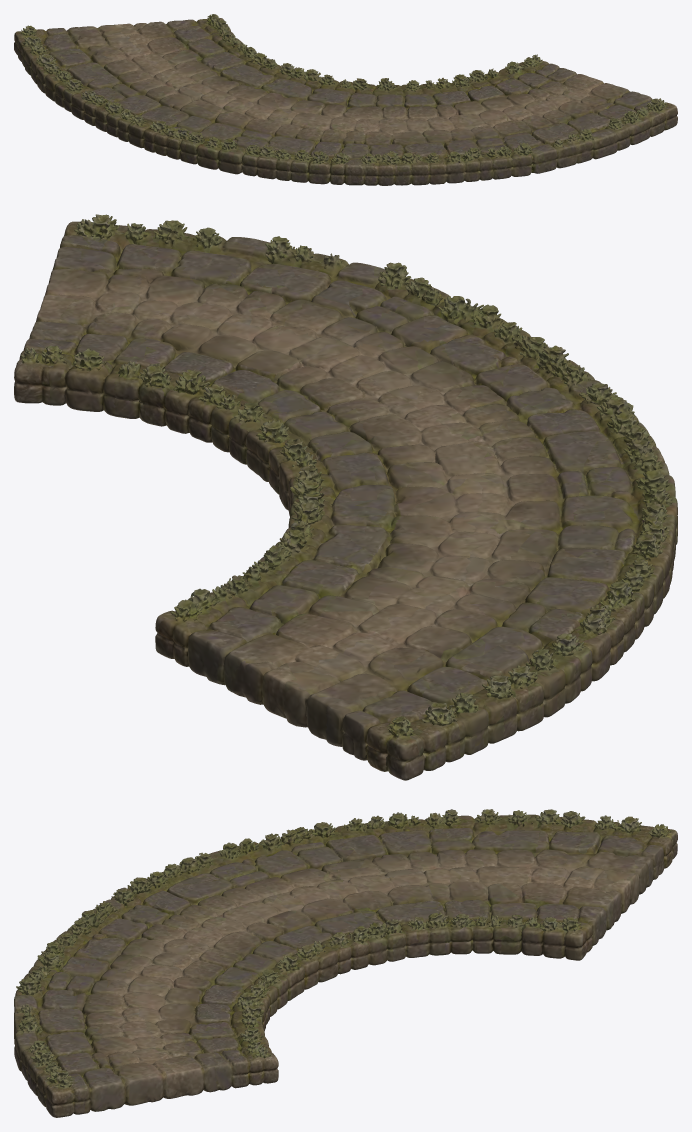
The model's file is Meshy_AI_road_curve_left_stron_0823032013_image-to-3d-texture.glb.
3 views of the same model, one above another, from view 1: azimuth 30°, elevation 25°; view 2: azimuth 150°, elevation 25°; view 3: azimuth 270°, elevation 25° (orthographic). The views are drawn at different scales.
Parts seen in each view (by area): view 1: mesh_node; view 2: mesh_node; view 3: mesh_node.
Part boxes in pixels (<box>): mesh_node: <box>14,14,677,185</box>; mesh_node: <box>14,214,677,780</box>; mesh_node: <box>14,809,677,1117</box>.
Size of the model in its own units: 1.9 by 0.1161 by 1.9.
Materials: 1 (1 with a texture image).
